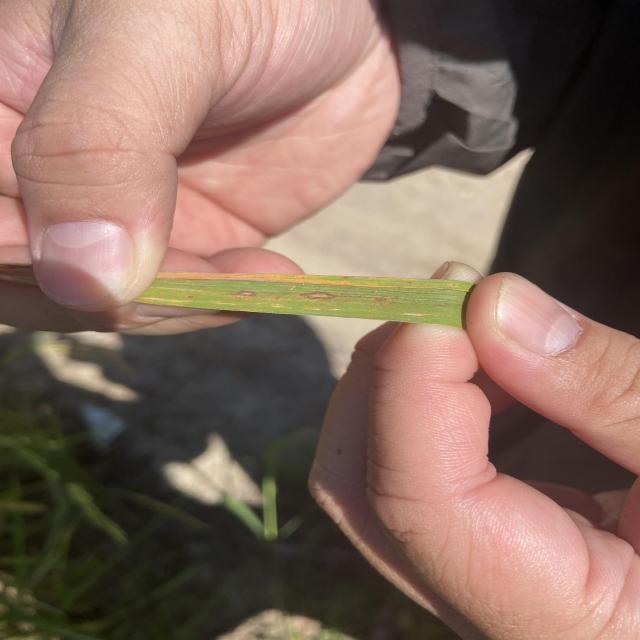Dao on: (300, 291, 336, 301), (238, 290, 254, 296), (372, 296, 388, 301)
